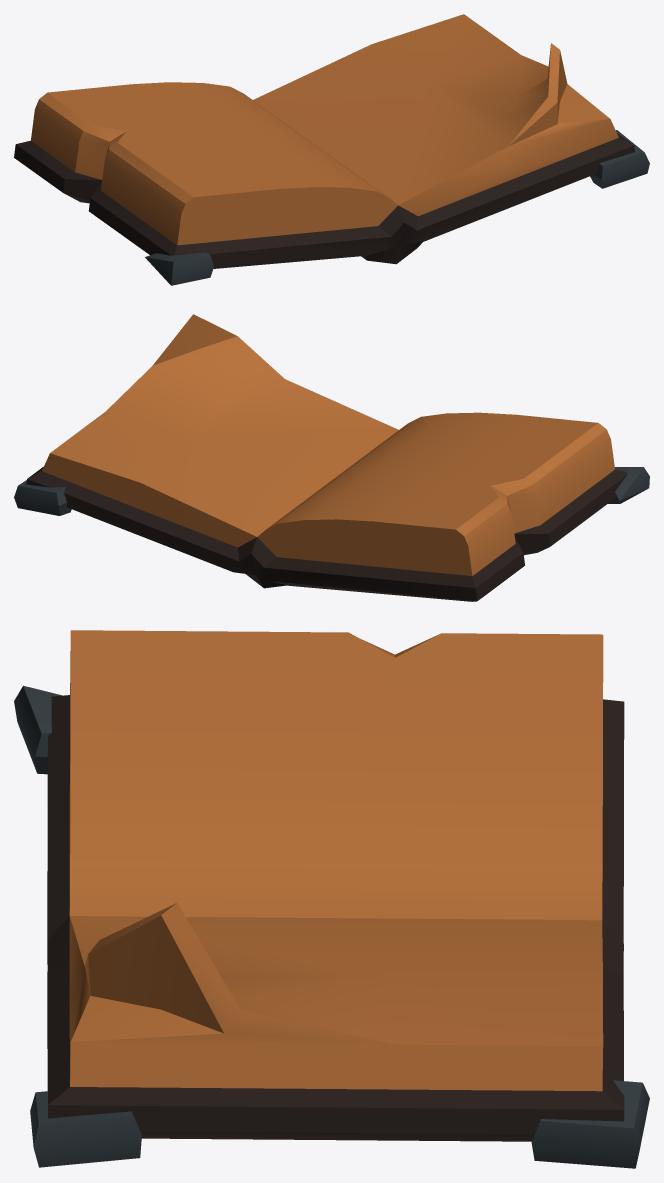
File: spellbook.obj
The picture shows the model from 3 angles, top to bottom: view 1: azimuth 30°, elevation 25°; view 2: azimuth 150°, elevation 25°; view 3: azimuth 270°, elevation 25°; orthographic projection. The views are drawn at different scales.
Visible parts, largest first — view 1: spellbook_Cube.7753; view 2: spellbook_Cube.7753; view 3: spellbook_Cube.7753.
Boxes of the visible parts, <box> form: spellbook_Cube.7753: <box>14,14,649,285</box>; spellbook_Cube.7753: <box>14,314,649,601</box>; spellbook_Cube.7753: <box>14,630,649,1168</box>.
Size of the model in its own units: 0.9527 by 0.2929 by 0.5972.
